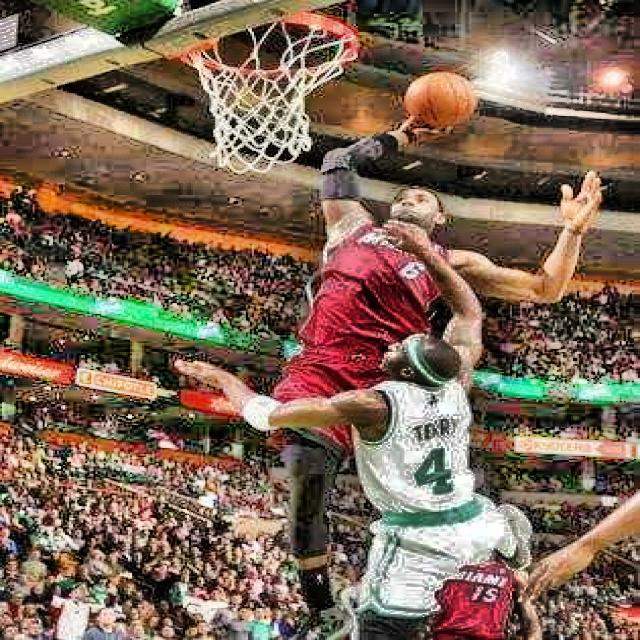board: (406, 72, 476, 130)
rim: (176, 13, 357, 174)
